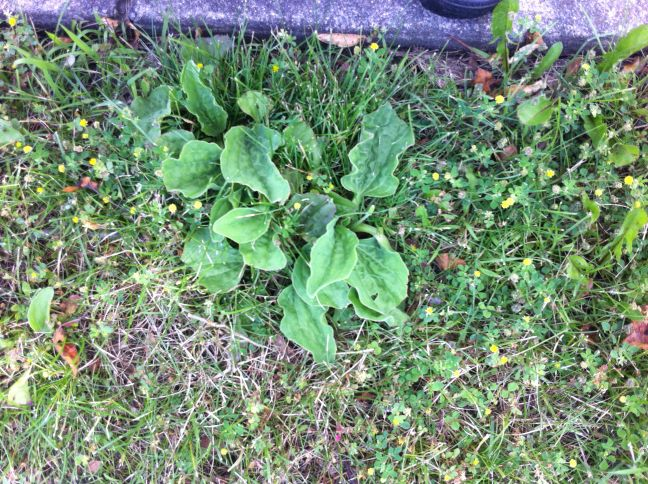weed1: (148, 51, 422, 367)
